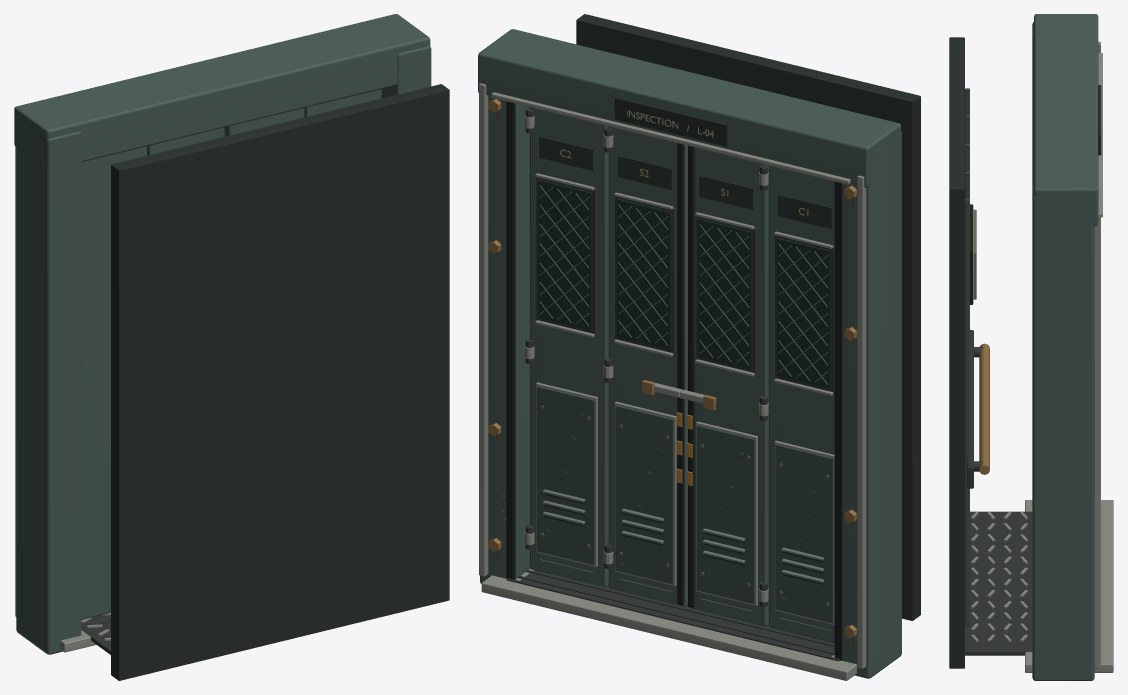
Rendered from service-lift.glb.
3 views of the same model, side by side, from view 1: azimuth 30°, elevation 25°; view 2: azimuth 150°, elevation 25°; view 3: azimuth 270°, elevation 25° (orthographic). The views are drawn at different scales.
Visible parts, largest first — view 1: LiftFrame, GateLeftOuter, GateRightInner, GateRightOuter, GateLeftInner; view 2: LiftFrame, GateLeftInner, GateRightInner, GateRightOuter, GateLeftOuter; view 3: LiftFrame.
Part boxes in pixels (x1=…): LiftFrame: x1=14, y1=14, x2=449, y2=680; GateLeftOuter: x1=81, y1=146, x2=146, y2=619; GateRightInner: x1=224, y1=108, x2=304, y2=136; GateRightOuter: x1=304, y1=89, x2=381, y2=117; GateLeftInner: x1=147, y1=127, x2=224, y2=155; LiftFrame: x1=478, y1=14, x2=920, y2=680; GateLeftInner: x1=687, y1=145, x2=768, y2=626; GateRightInner: x1=603, y1=126, x2=687, y2=606; GateRightOuter: x1=525, y1=107, x2=608, y2=587; GateLeftOuter: x1=768, y1=165, x2=834, y2=643; LiftFrame: x1=949, y1=14, x2=1113, y2=680.
Size of the model in its own units: 1.88 by 2.45 by 0.741.
